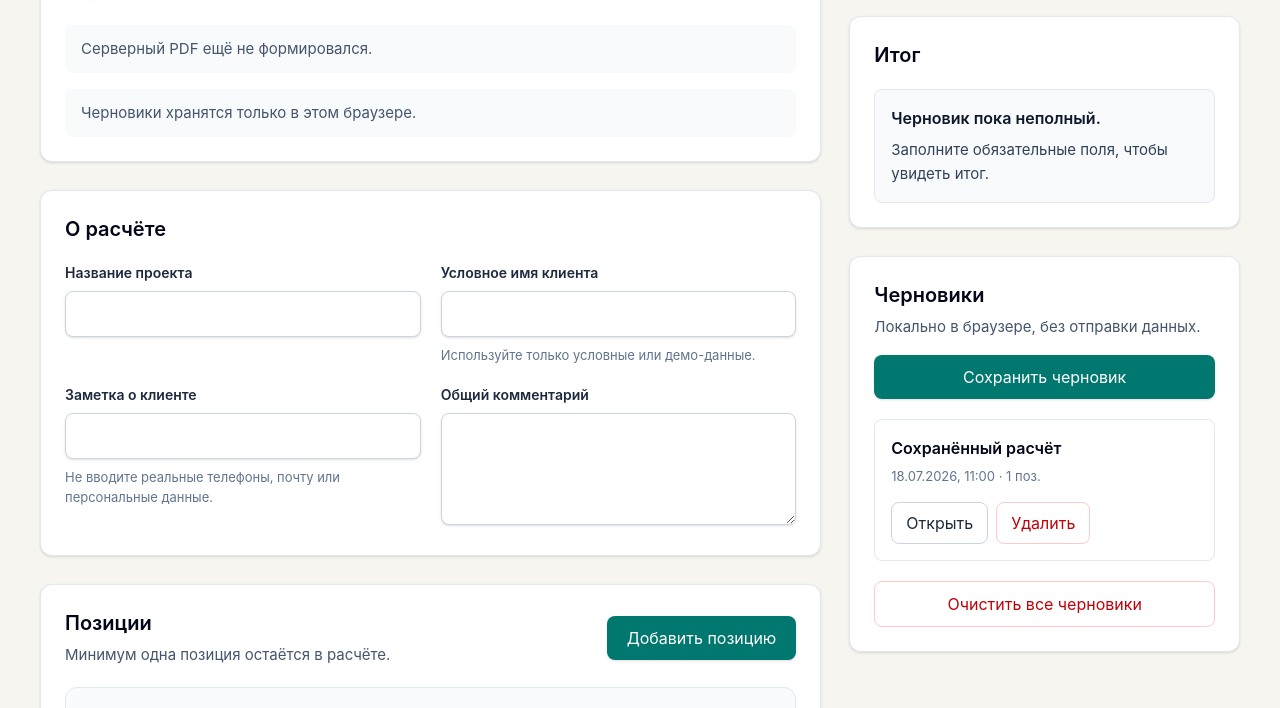
it: QuoteFlow UI › opens a saved draft
(page scrolled)
What coordinates should you click on to do the following:
click the button "Открыть"
I would click on:
 (940, 523)
Its box is [891,502,988,544].
(page scrolled)
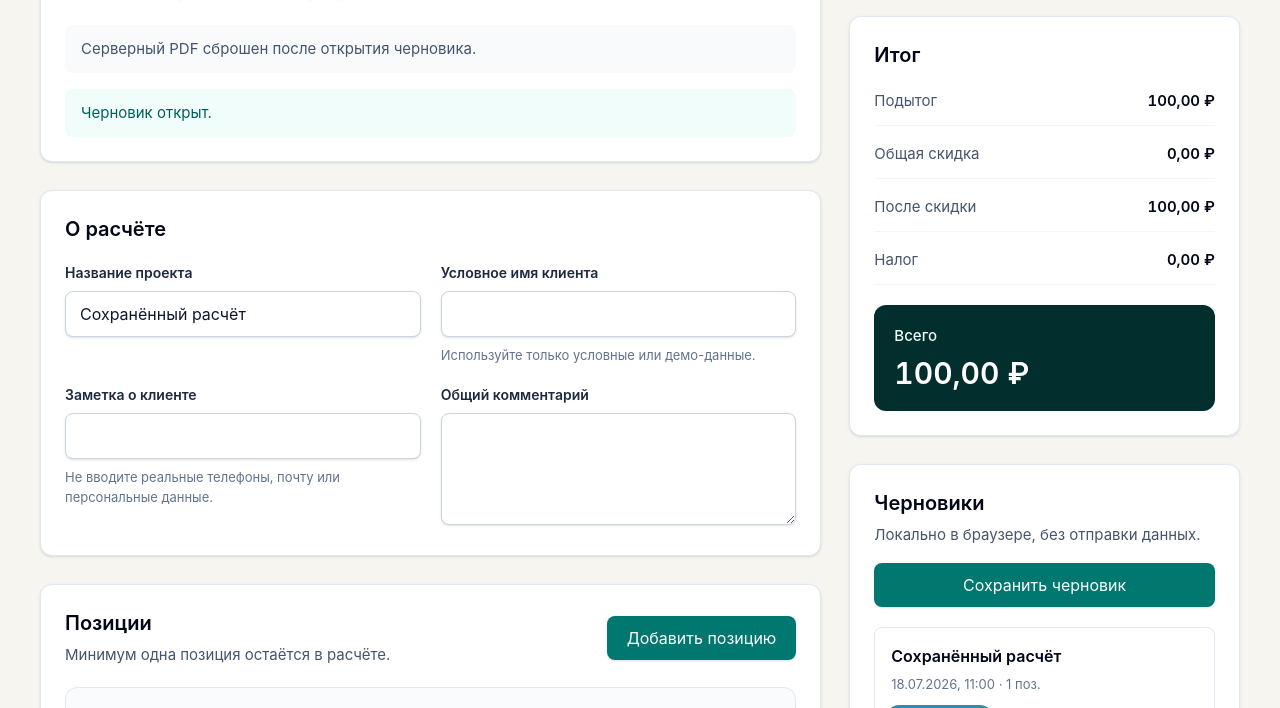
Expected: the field showing "Сохранённый расчёт" is shown, [65,291,421,337]
